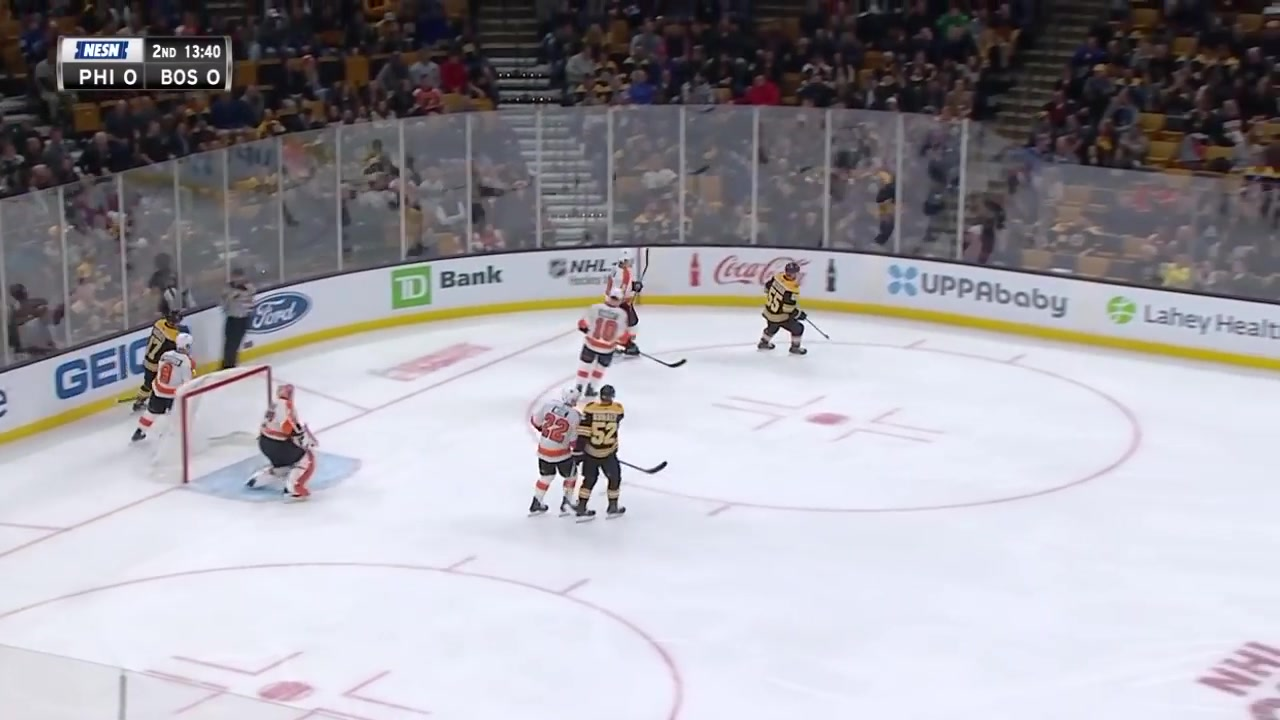Geico: (55, 329, 152, 414)
